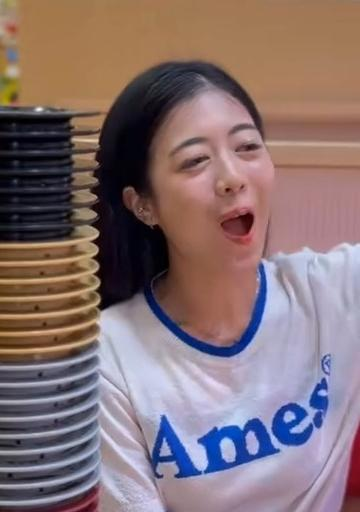Janback: (0, 103, 101, 124), (0, 174, 108, 193), (0, 209, 104, 225), (0, 126, 100, 141), (0, 194, 102, 207), (0, 144, 109, 155), (0, 161, 96, 172)
Jangold: (0, 284, 89, 303), (0, 318, 89, 337), (0, 269, 87, 287), (0, 238, 95, 251), (0, 254, 93, 266), (0, 337, 79, 351), (0, 307, 83, 318)
Janwhite: (0, 425, 81, 442), (0, 373, 83, 388), (0, 457, 82, 472), (0, 393, 89, 406), (0, 363, 103, 374), (0, 411, 90, 423), (0, 477, 87, 488), (0, 492, 82, 503), (0, 443, 73, 455)
